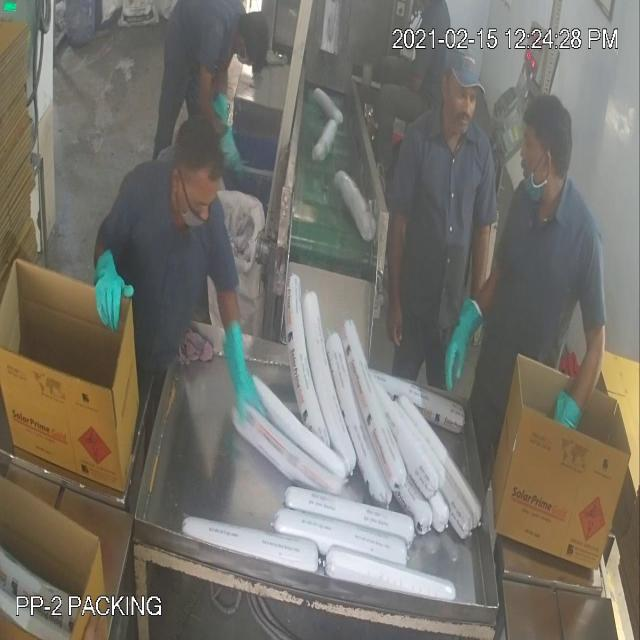gloves: (206, 295, 274, 444), (78, 234, 146, 338), (439, 286, 491, 396)
no-gloves: (380, 202, 414, 359)
